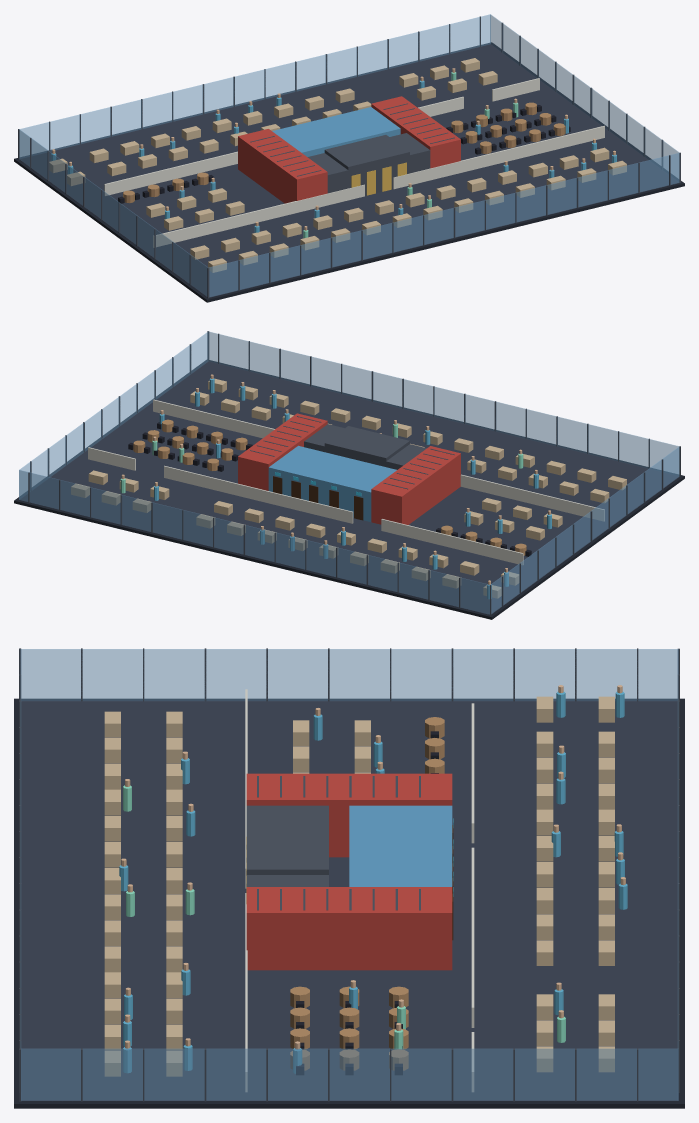
3 views of the same model, one above another, from view 1: azimuth 30°, elevation 25°; view 2: azimuth 150°, elevation 25°; view 3: azimuth 270°, elevation 25° (orthographic). The views are drawn at different scales.
Parts seen in each view (by area): view 1: L27_floor_carpet, L27_glass, L27_desk, L27_core, L27_wall, L27_stair, L27_slab, L27_wash, L27_table, L27_chair, L27_role_engineer, L27_lift (+1 smaller); view 2: L27_floor_carpet, L27_glass, L27_desk, L27_wall, L27_stair, L27_core, L27_slab, L27_wash, L27_table, L27_role_engineer, L27_chair, L27_door_closed (+2 smaller); view 3: L27_floor_carpet, L27_glass, L27_desk, L27_stair, L27_core, L27_slab, L27_wash, L27_table, L27_role_engineer, L27_wall, L27_person_skin, L27_role_host (+2 smaller).
Boxes of the visible parts, x1,y1,x2,y2 form: L27_floor_carpet: [19, 44, 679, 297]; L27_glass: [19, 14, 679, 296]; L27_desk: [49, 58, 626, 272]; L27_core: [18, 16, 680, 298]; L27_wall: [104, 78, 604, 247]; L27_stair: [238, 96, 460, 203]; L27_slab: [14, 42, 684, 302]; L27_wash: [272, 107, 400, 156]; L27_table: [123, 102, 565, 203]; L27_chair: [118, 105, 570, 203]; L27_role_engineer: [51, 80, 616, 232]; L27_lift: [351, 162, 406, 195]; L27_floor_carpet: [19, 361, 679, 614]; L27_glass: [19, 331, 679, 614]; L27_desk: [71, 378, 626, 598]; L27_wall: [88, 399, 604, 565]; L27_stair: [238, 413, 460, 524]; L27_core: [28, 331, 680, 615]; L27_slab: [14, 360, 684, 619]; L27_wash: [268, 445, 396, 521]; L27_table: [133, 419, 526, 555]; L27_role_engineer: [154, 378, 538, 599]; L27_chair: [128, 422, 531, 556]; L27_door_closed: [273, 476, 363, 520]; L27_floor_carpet: [21, 700, 678, 1101]; L27_glass: [20, 649, 678, 1100]; L27_desk: [104, 696, 614, 1076]; L27_stair: [246, 773, 452, 970]; L27_core: [19, 648, 679, 1101]; L27_slab: [14, 698, 684, 1108]; L27_wash: [349, 805, 452, 886]; L27_table: [290, 717, 444, 1070]; L27_role_engineer: [123, 692, 627, 1073]; L27_wall: [245, 689, 474, 1092]; L27_person_skin: [121, 685, 625, 1049]; L27_role_host: [123, 785, 565, 1049].
Bounding box in the file's own units: 46.6 × 3.37 × 32.6.
